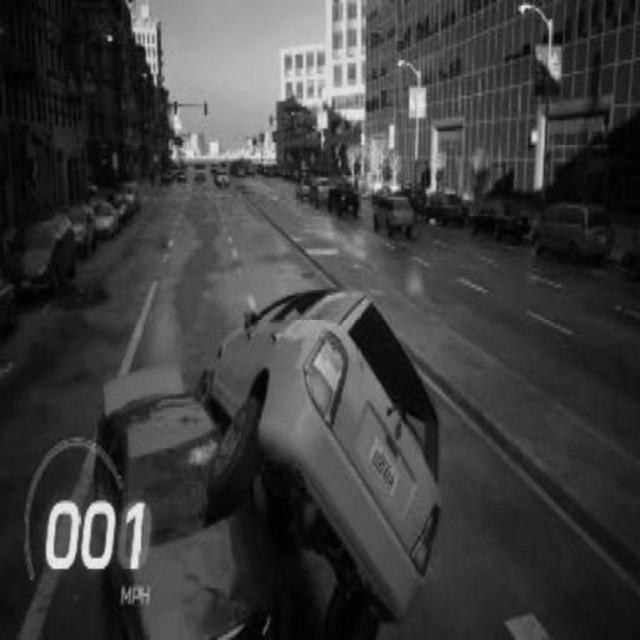accident: (97, 290, 444, 640)
vehicle: (3, 210, 80, 298), (529, 200, 619, 267), (469, 196, 537, 247), (368, 190, 420, 240), (322, 179, 366, 223)
